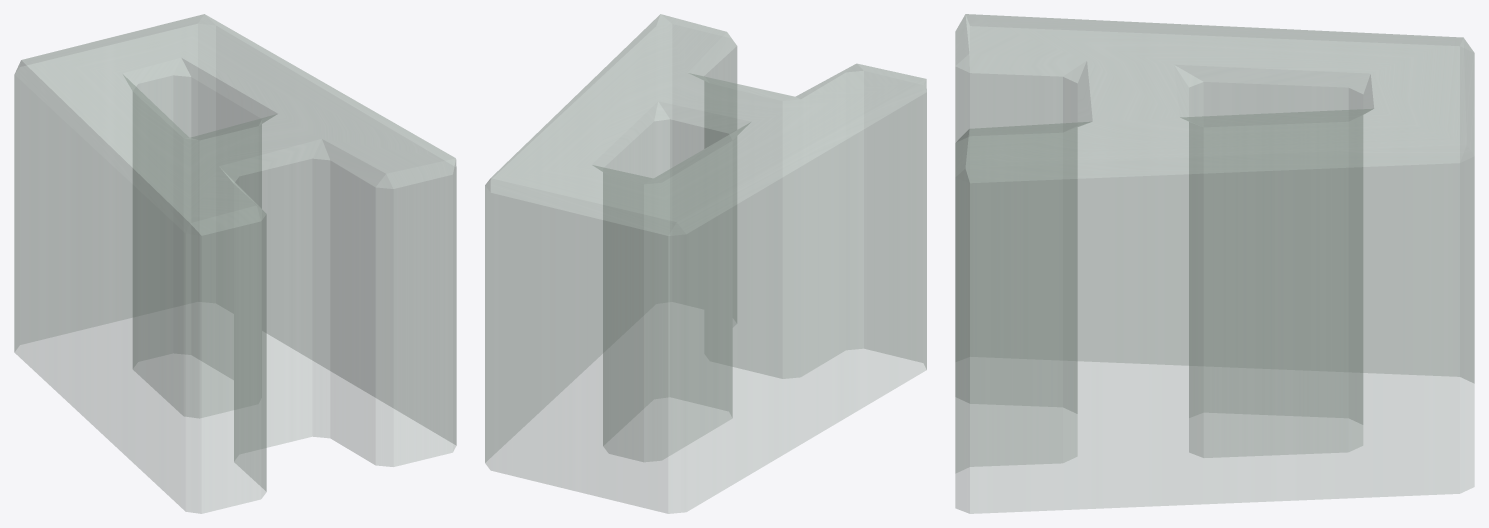
The picture shows the model from 3 angles, left to right: view 1: azimuth 30°, elevation 25°; view 2: azimuth 150°, elevation 25°; view 3: azimuth 270°, elevation 25°; orthographic projection. The views are drawn at different scales.
Parts seen in each view (by area): view 1: A; view 2: A; view 3: A.
Boxes of the visible parts, bbox=[...] form: A: bbox=[14, 14, 456, 513]; A: bbox=[485, 14, 926, 513]; A: bbox=[955, 14, 1474, 513].
Bounding box in the file's own units: 0.4309 × 0.44 × 0.6019.
Materials: 1 (1 with a texture image).
